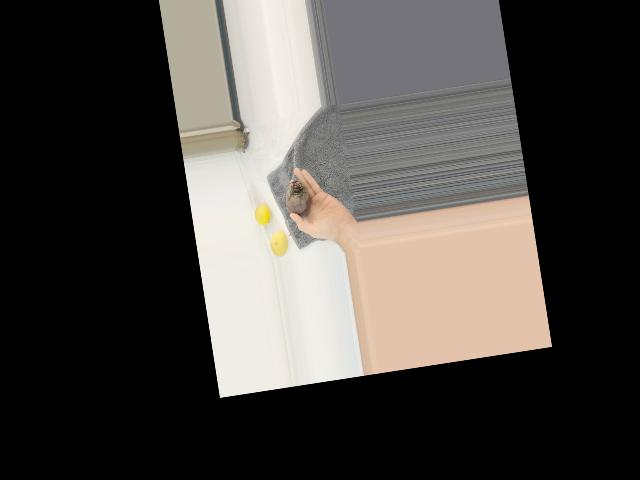beet: (280, 179, 316, 236)
